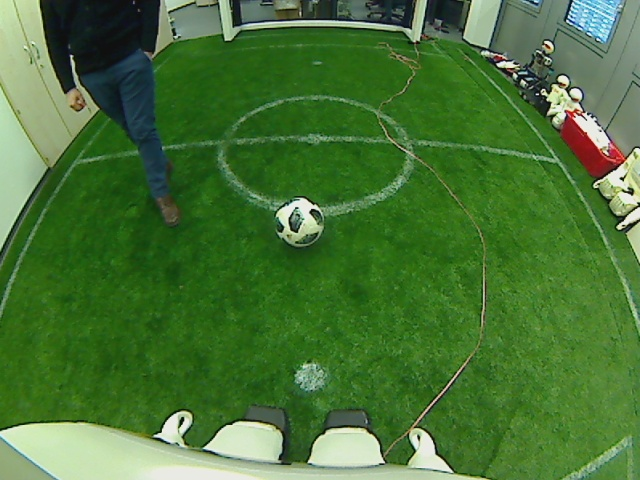ball: (273, 196, 325, 246)
